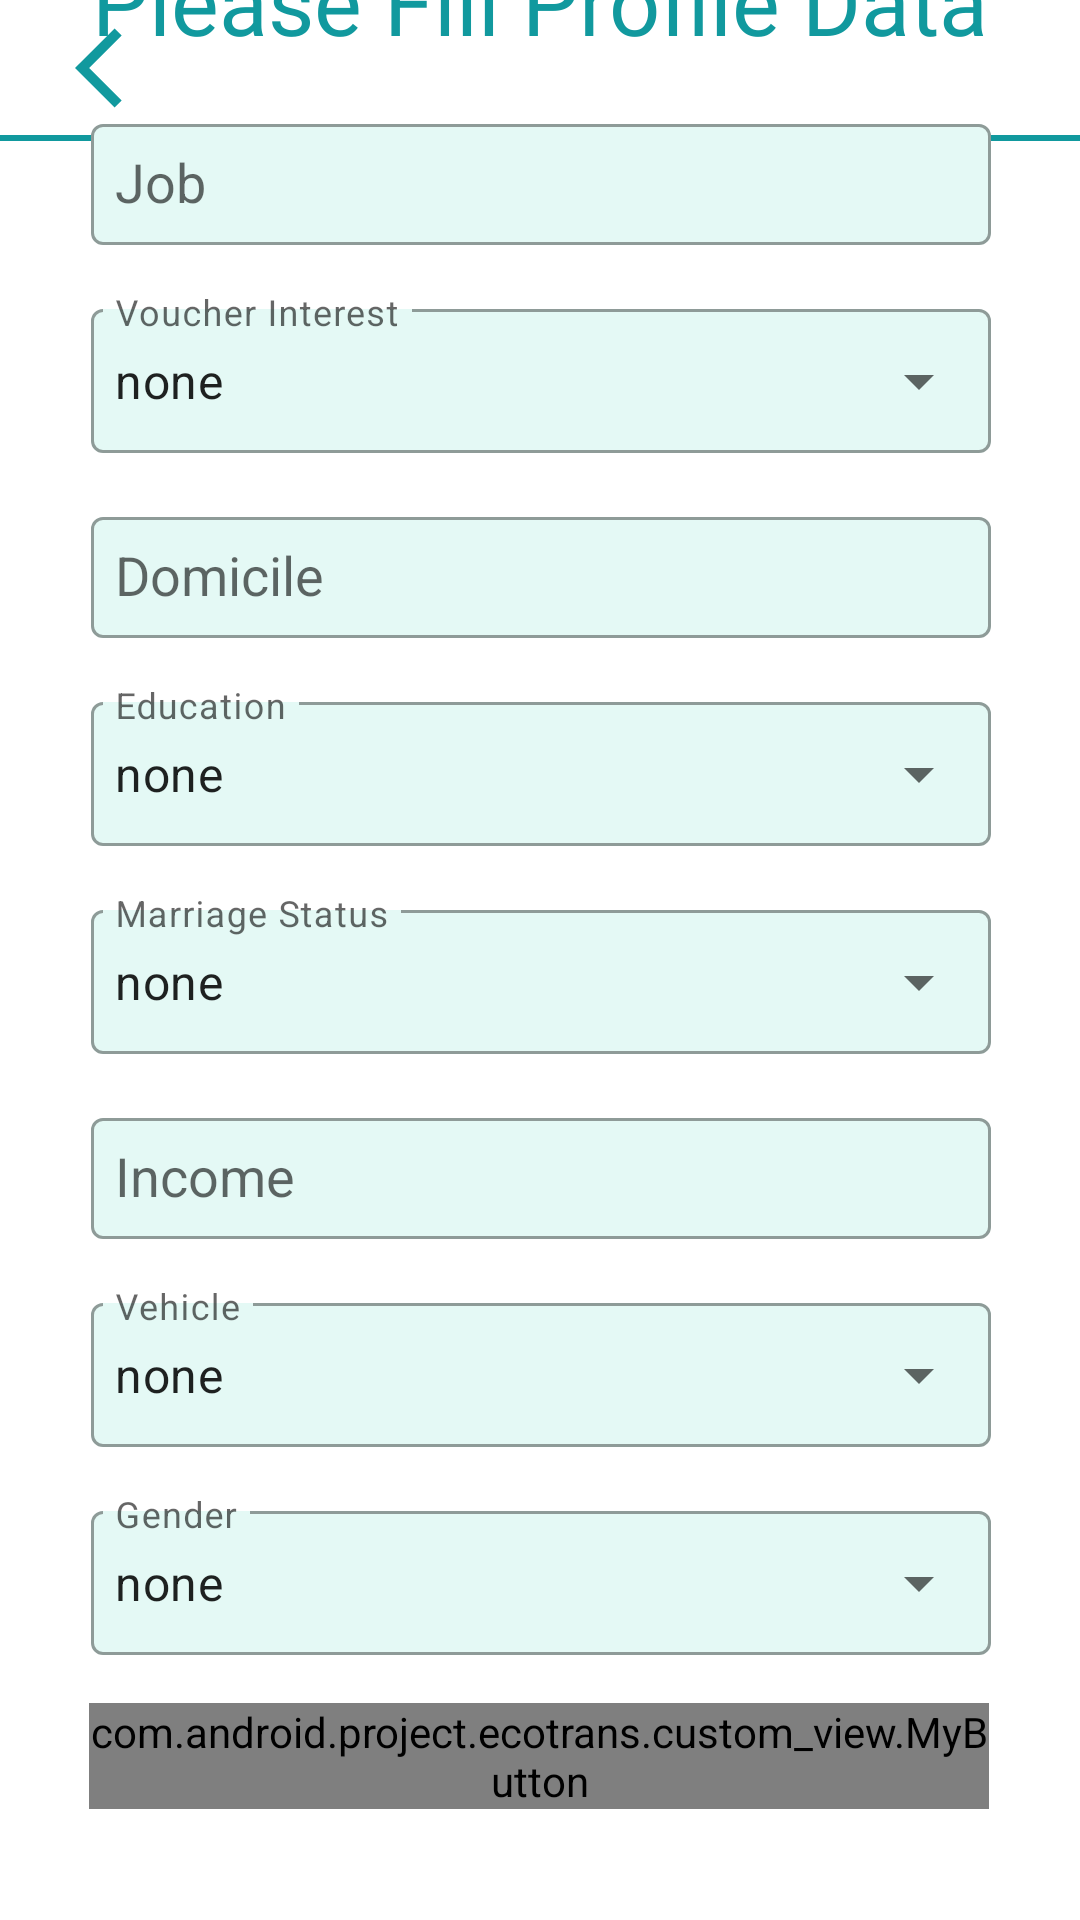

Screen size 1080*1920. Icon name, then its center in pixels as point (x, y):
arrow back: point (119, 63)
